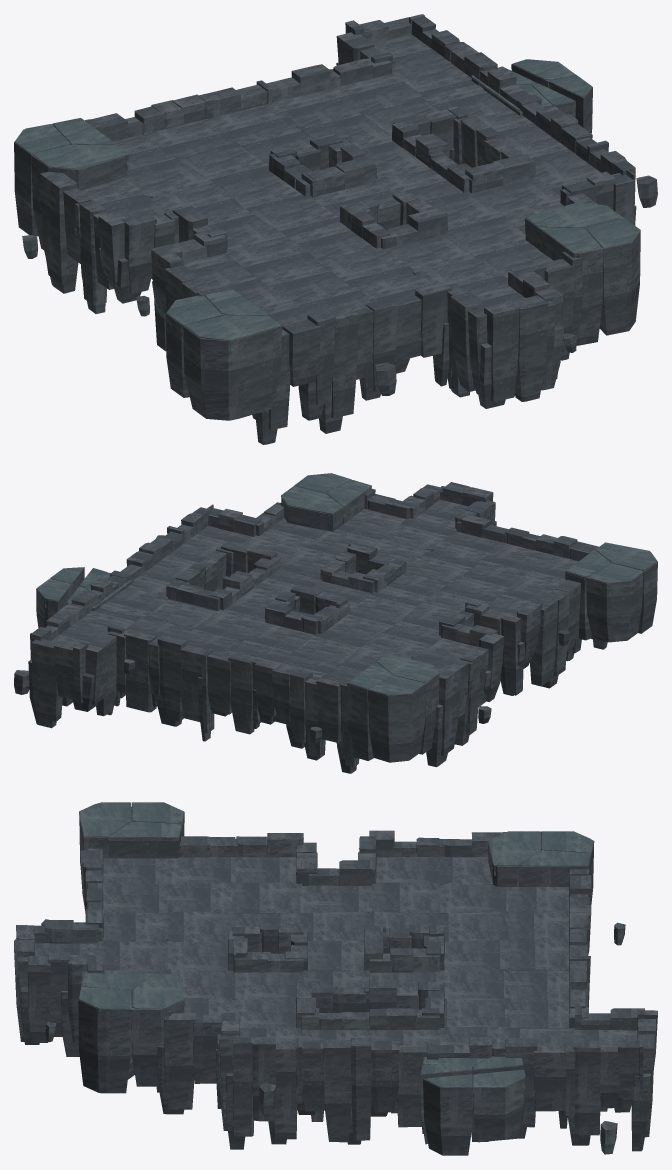
File: chapter2_stage9_geology.glb
3 views of the same model, one above another, from view 1: azimuth 30°, elevation 25°; view 2: azimuth 150°, elevation 25°; view 3: azimuth 270°, elevation 25° (orthographic). The views are drawn at different scales.
Visible parts, largest first — view 1: stage9_continuous_rock_strata; view 2: stage9_continuous_rock_strata; view 3: stage9_continuous_rock_strata.
Boxes of the visible parts, x1,y1,x2,y2 form: stage9_continuous_rock_strata: [14, 14, 657, 444]; stage9_continuous_rock_strata: [14, 473, 657, 773]; stage9_continuous_rock_strata: [14, 802, 657, 1155].
Size of the model in its own units: 9.27 by 1.97 by 9.43.
2 materials, 2 textured.
